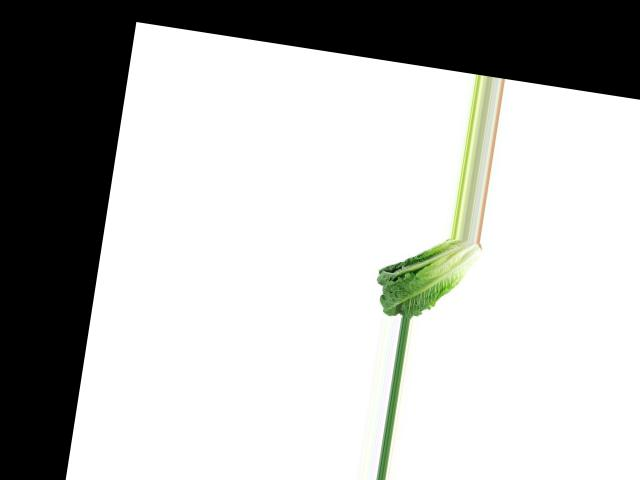lettuce: (370, 227, 483, 327)
